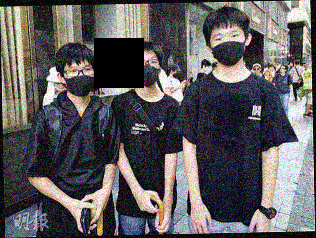mask_weared_incorrect: (54, 81, 67, 95)
with_mask: (210, 28, 248, 67), (65, 63, 97, 98), (134, 55, 162, 88), (172, 69, 180, 79), (204, 65, 212, 73)
without_mask: (254, 65, 263, 76), (279, 64, 288, 74)
